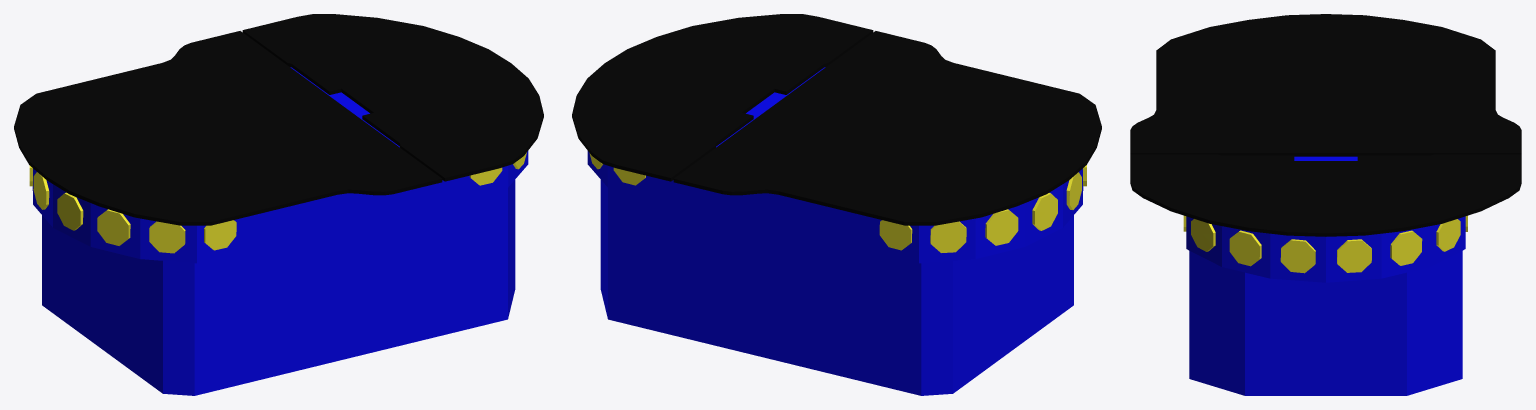
File: chassis_b.dae
3 renders of one model, left to right at view 1: azimuth 30°, elevation 25°; view 2: azimuth 150°, elevation 25°; view 3: azimuth 270°, elevation 25°, orthographic. The views are drawn at different scales.
Visible parts, largest first — view 1: chassis_top, chassis, sonarbank_001; view 2: chassis_top, chassis, sonarbank_001; view 3: chassis_top, chassis, sonarbank.
Boxes of the visible parts, left/top/right/bottom form: chassis_top: left=14, top=14, right=543, bottom=225; chassis: left=32, top=67, right=528, bottom=395; sonarbank_001: left=29, top=165, right=236, bottom=253; chassis_top: left=572, top=14, right=1101, bottom=225; chassis: left=587, top=67, right=1083, bottom=395; sonarbank_001: left=879, top=165, right=1086, bottom=252; chassis_top: left=1130, top=14, right=1521, bottom=236; chassis: left=1186, top=156, right=1465, bottom=395; sonarbank: left=1183, top=215, right=1467, bottom=273.
Size of the model in its own units: 0.5082 by 0.3831 by 0.195.
